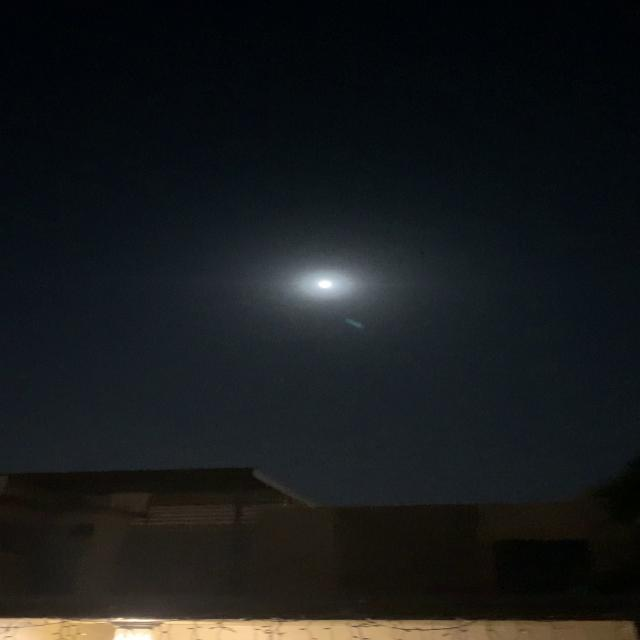moon: (308, 270, 360, 296)
